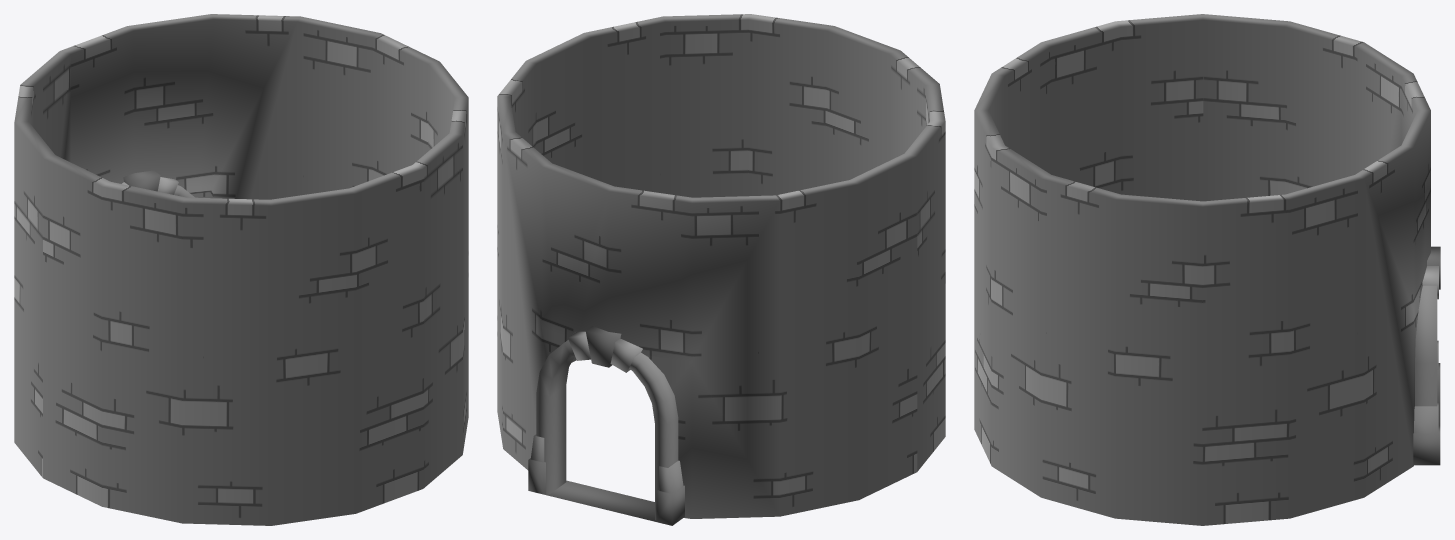
File: rookBodyDoor.gltf
3 views of the same model, side by side, from view 1: azimuth 30°, elevation 25°; view 2: azimuth 150°, elevation 25°; view 3: azimuth 270°, elevation 25° (orthographic).
Visible parts, largest first — view 1: rookBodyDoor; view 2: rookBodyDoor; view 3: rookBodyDoor.
Boxes of the visible parts, x1,y1,x2,y2 form: rookBodyDoor: (14, 14, 468, 525); rookBodyDoor: (497, 14, 945, 525); rookBodyDoor: (974, 14, 1440, 525).
Size of the model in its own units: 7.74 by 5.96 by 7.9.
Materials: 5 (1 with a texture image).
